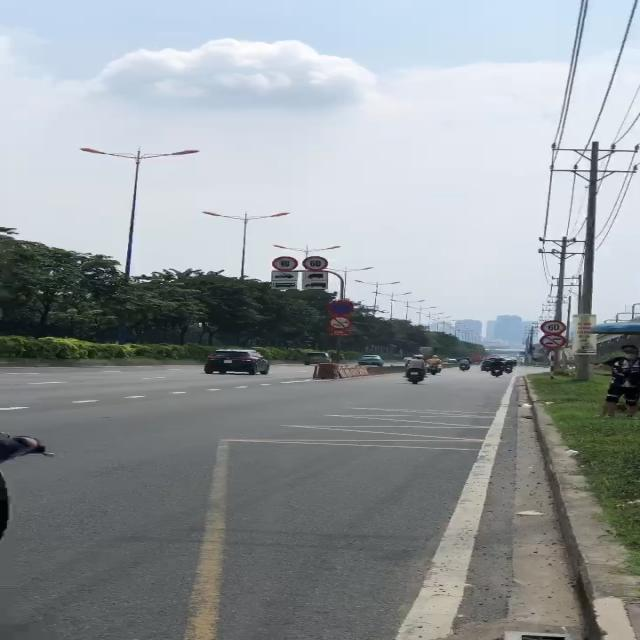Bien bao toc do toi da cho phep: (300, 254, 333, 272), (540, 319, 570, 334)
